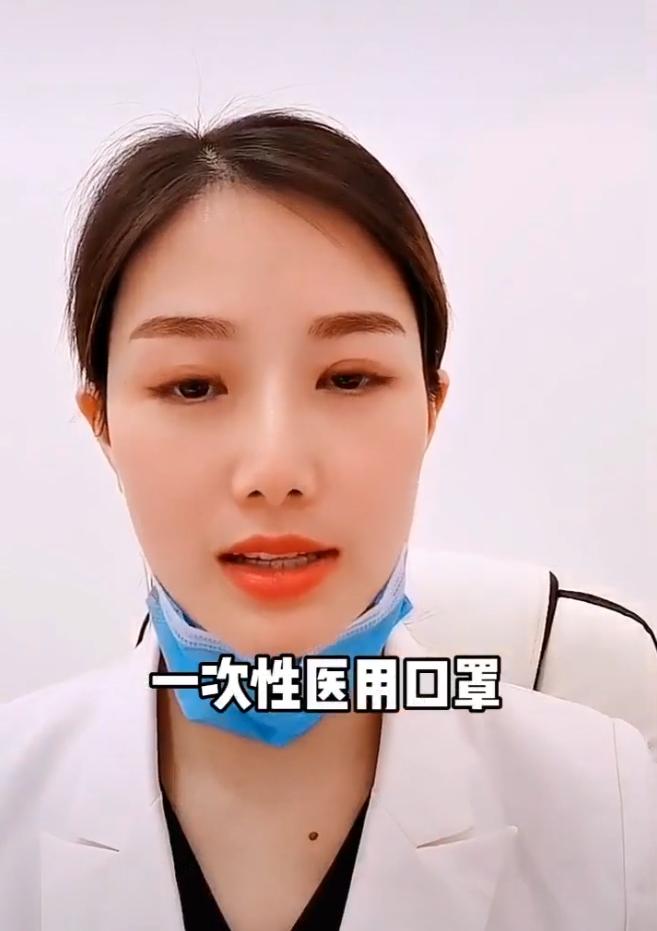face: (110, 210, 424, 656)
